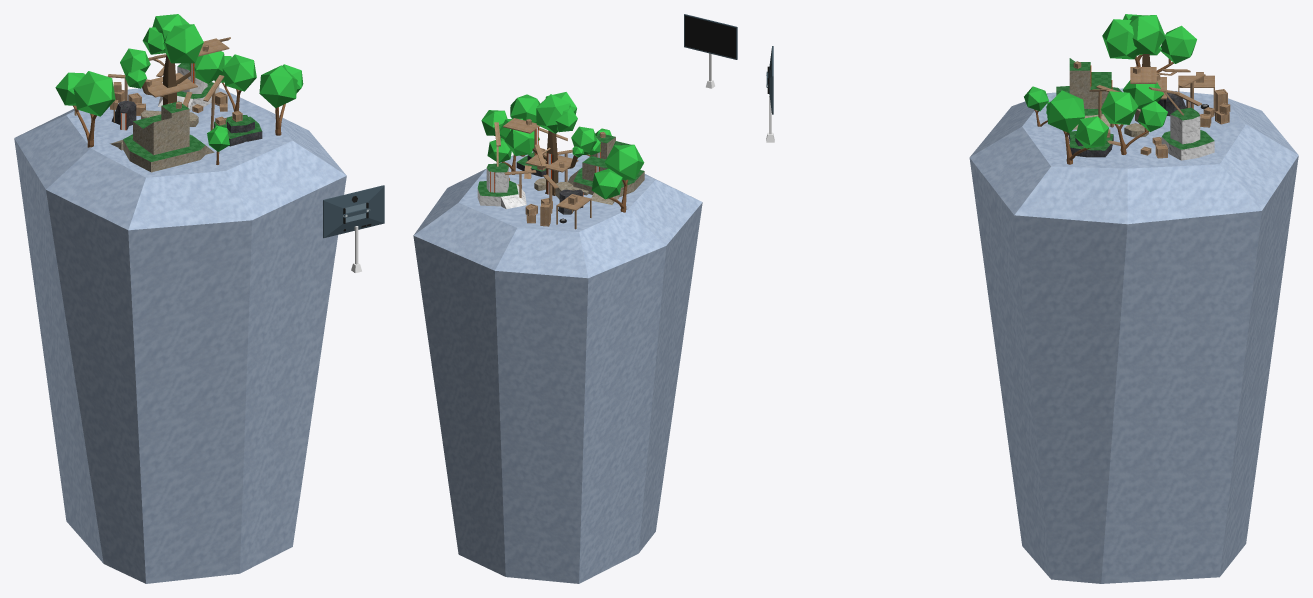
The picture shows the model from 3 angles, left to right: view 1: azimuth 30°, elevation 25°; view 2: azimuth 150°, elevation 25°; view 3: azimuth 270°, elevation 25°; orthographic projection. The views are drawn at different scales.
Visible parts, largest first — view 1: SandSnow, Green_4, Rock4, Planks_1, mat17, Play_grass2, Rock11, Tree, Planks, DarkWood_4, Rock10; view 2: SandSnow, Green_4, Planks_1, ScreenMaterial, Play_grass2, Rock10, Rock4, DarkWood_4, Planks, Rock11; view 3: SandSnow, Green_4, Planks_1, Play_grass2, Rock10, Rock4, Planks, Rock11, Tree.
Part boxes in pixels (left/top/right/bottom): SandSnow: left=14, top=88, right=346, bottom=583; Green_4: left=55, top=14, right=303, bottom=151; Rock4: left=123, top=106, right=214, bottom=172; Planks_1: left=74, top=37, right=241, bottom=130; mat17: left=323, top=185, right=384, bottom=238; Play_grass2: left=123, top=63, right=261, bottom=161; Rock11: left=111, top=100, right=262, bottom=146; Tree: left=73, top=82, right=285, bottom=164; Planks: left=110, top=44, right=242, bottom=125; DarkWood_4: left=142, top=55, right=190, bottom=105; Rock10: left=158, top=66, right=219, bottom=110; SandSnow: left=413, top=151, right=702, bottom=583; Green_4: left=481, top=92, right=644, bottom=199; Planks_1: left=494, top=118, right=604, bottom=229; ScreenMaterial: left=685, top=15, right=735, bottom=58; Play_grass2: left=477, top=133, right=644, bottom=196; Rock10: left=477, top=167, right=526, bottom=209; Rock4: left=568, top=137, right=644, bottom=197; DarkWood_4: left=532, top=130, right=577, bottom=195; Planks: left=509, top=119, right=605, bottom=226; Rock11: left=516, top=155, right=582, bottom=214; SandSnow: left=969, top=88, right=1298, bottom=583; Green_4: left=1024, top=14, right=1196, bottom=148; Planks_1: left=1074, top=62, right=1229, bottom=157; Play_grass2: left=1056, top=58, right=1214, bottom=150; Rock10: left=1161, top=114, right=1214, bottom=160; Rock4: left=1069, top=70, right=1120, bottom=129; Planks: left=1073, top=61, right=1230, bottom=158; Rock11: left=1069, top=91, right=1186, bottom=157; Tree: left=1034, top=54, right=1173, bottom=164.
Bounding box in the file's own units: 115 × 221 × 202.
